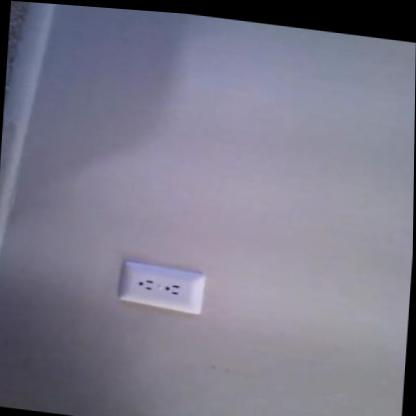OUTLET: (117, 259, 206, 316)
